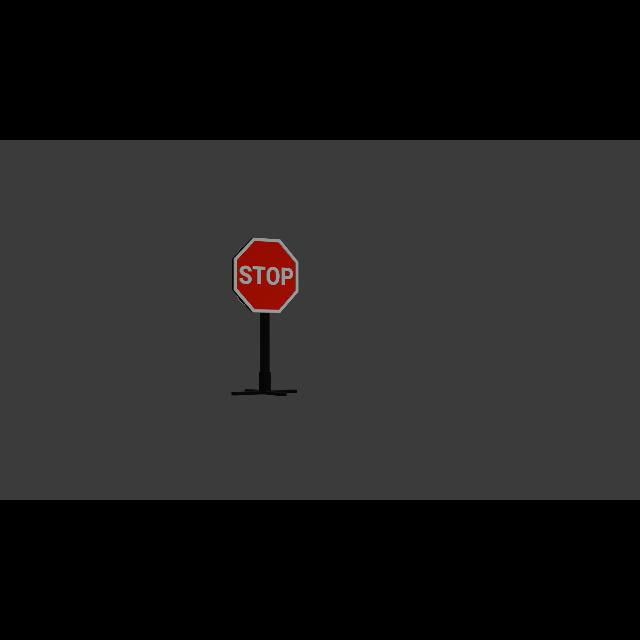sign_stop: (234, 238, 301, 314)
